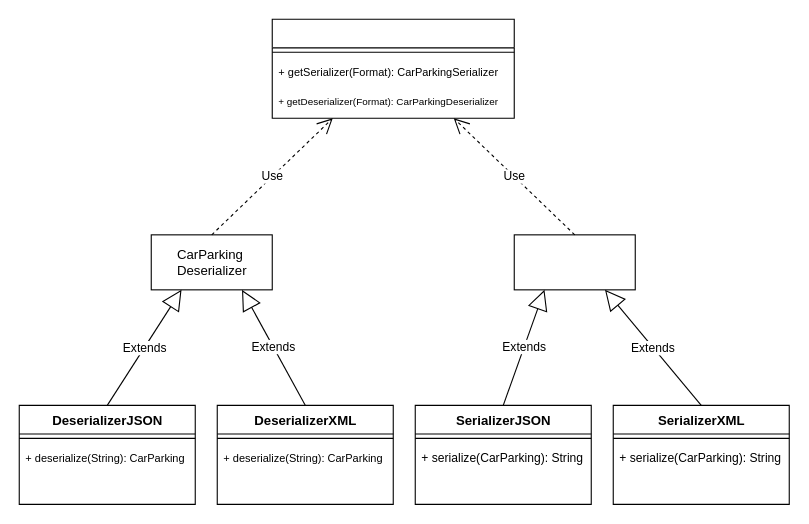
The diagram is 809 pixels wide and 524 high, and some of its shapes have lost their labels. Here are the shapes that lost their labels. From the top down, the box of each, then its label:
(271, 18, 514, 118): SerializationFactory
(513, 234, 635, 290): CarParking Serializer
